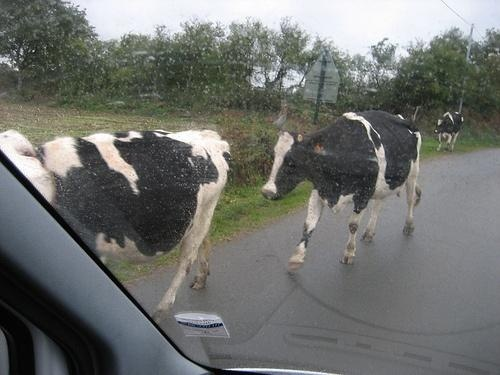cow: (2, 129, 232, 322), (262, 112, 422, 262), (435, 113, 465, 153)
